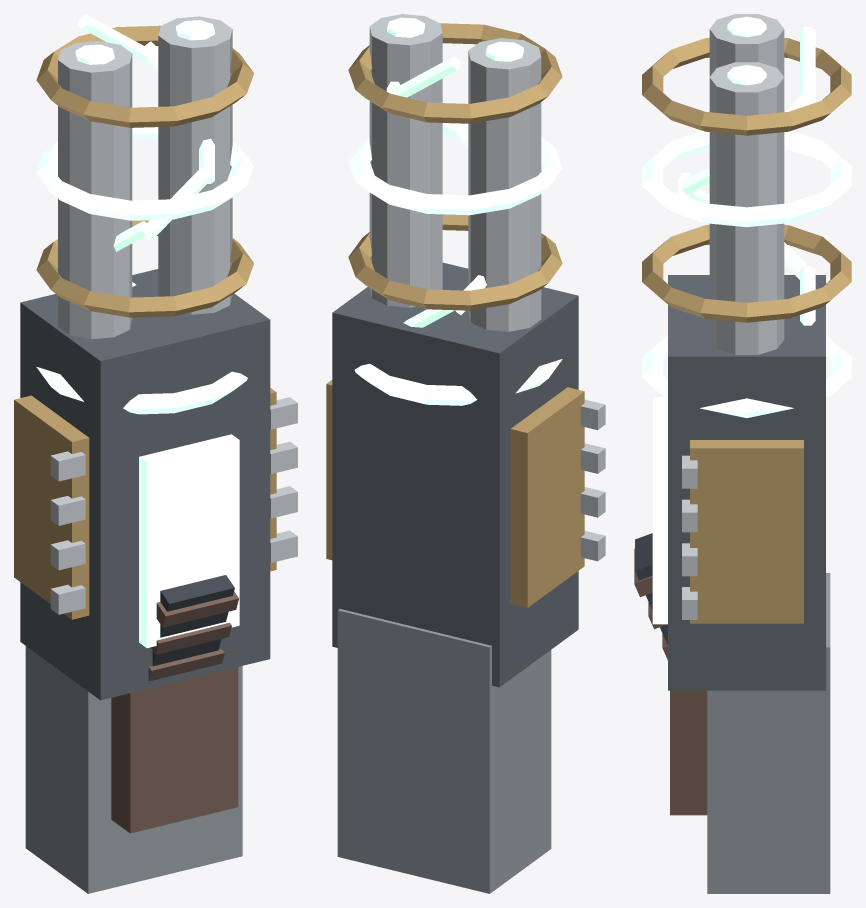
File: helix_projector.glb
The picture shows the model from 3 angles, left to right: view 1: azimuth 30°, elevation 25°; view 2: azimuth 150°, elevation 25°; view 3: azimuth 270°, elevation 25°; orthographic projection.
Visible parts, largest first — view 1: ProjectorReceiver, ProjectorStock, StockCheek, TwinEmitter_-1, GreenPowerCell, TwinEmitter_1, SideRail_-1.001, HelixCage_3, HelixCage_2, HelixCage_1, InsulatedGripCore.002, HelixCage_0 (+16 smaller); view 2: ProjectorReceiver, ProjectorStock, TwinEmitter_-1, TwinEmitter_1, SideRail_-1.001, HelixCage_3, HelixCage_1, HelixCage_2, HelixCage_0, SideRail_1.001, HelicalConductor_7, RailNotch_-1_1.001 (+5 smaller); view 3: ProjectorReceiver, ProjectorStock, SideRail_1.001, TwinEmitter_1, HelixCage_2, HelixCage_1, HelixCage_3, StockCheek, GreenPowerCell, TwinEmitter_-1, HelixCage_0, HelicalConductor_7 (+9 smaller).
Part boxes in pixels (bbox=[...]): ProjectorReceiver: bbox=[20, 269, 270, 700]; ProjectorStock: bbox=[25, 646, 242, 893]; StockCheek: bbox=[111, 667, 238, 833]; TwinEmitter_-1: bbox=[58, 41, 132, 339]; GreenPowerCell: bbox=[139, 434, 239, 648]; TwinEmitter_1: bbox=[158, 16, 232, 314]; SideRail_-1.001: bbox=[14, 395, 89, 619]; HelixCage_3: bbox=[36, 25, 253, 127]; HelixCage_2: bbox=[36, 127, 253, 220]; HelixCage_1: bbox=[36, 220, 253, 317]; InsulatedGripCore.002: bbox=[152, 575, 234, 666]; HelixCage_0: bbox=[36, 367, 247, 414]; ProjectorReceiver: bbox=[332, 262, 578, 687]; ProjectorStock: bbox=[337, 609, 551, 893]; TwinEmitter_-1: bbox=[468, 38, 541, 331]; TwinEmitter_1: bbox=[369, 14, 442, 307]; SideRail_-1.001: bbox=[510, 387, 584, 607]; HelixCage_3: bbox=[348, 23, 562, 123]; HelixCage_1: bbox=[348, 214, 562, 310]; HelixCage_2: bbox=[348, 123, 562, 215]; HelixCage_0: bbox=[354, 359, 562, 405]; SideRail_1.001: bbox=[326, 380, 332, 560]; HelicalConductor_7: bbox=[390, 56, 460, 97]; RailNotch_-1_1.001: bbox=[580, 487, 605, 517]; ProjectorReceiver: bbox=[668, 275, 825, 690]; ProjectorStock: bbox=[707, 573, 830, 893]; SideRail_1.001: bbox=[690, 440, 803, 623]; TwinEmitter_1: bbox=[709, 62, 784, 354]; HelixCage_2: bbox=[642, 130, 851, 227]; HelixCage_1: bbox=[642, 225, 851, 322]; HelixCage_3: bbox=[642, 37, 851, 135]; StockCheek: bbox=[670, 690, 707, 815]; GreenPowerCell: bbox=[652, 397, 667, 624]; TwinEmitter_-1: bbox=[709, 14, 784, 76]; HelixCage_0: bbox=[642, 335, 851, 417]; HelicalConductor_7: bbox=[800, 27, 815, 103].
Bounding box in the file's own units: 0.62 × 2.05 × 0.4956.
